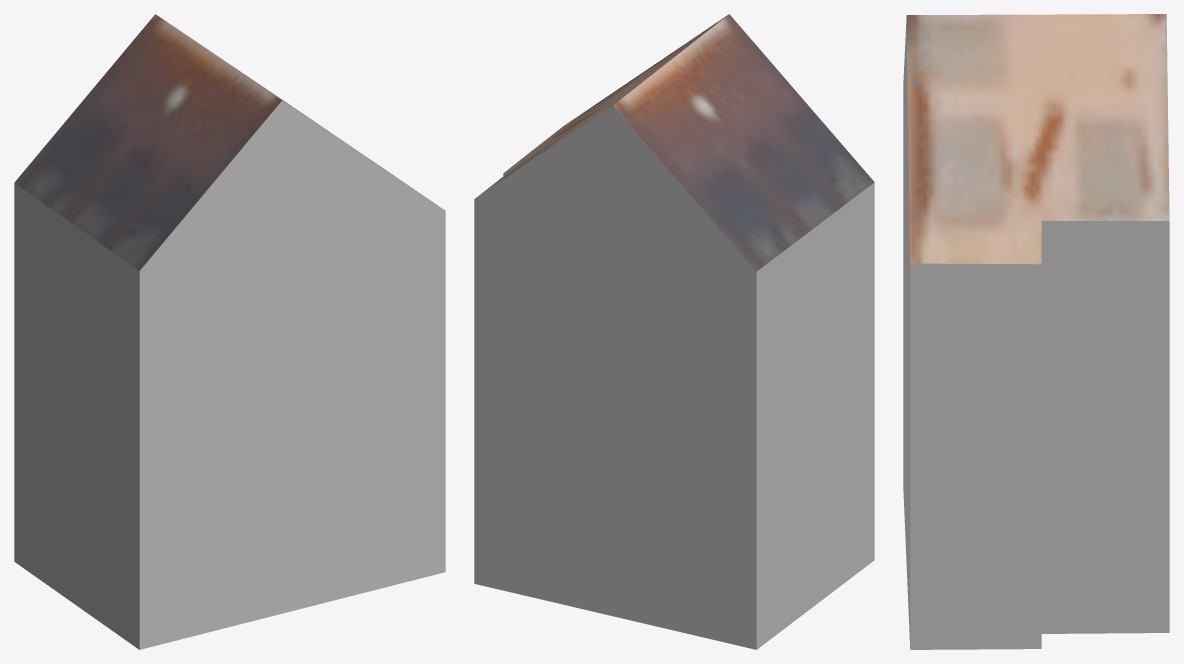
The model's file is DEBW_0010007Tx8b.gltf.
3 views of the same model, side by side, from view 1: azimuth 30°, elevation 25°; view 2: azimuth 150°, elevation 25°; view 3: azimuth 270°, elevation 25° (orthographic). The views are drawn at different scales.
Parts seen in each view (by area): view 1: Z_UP; view 2: Z_UP; view 3: Z_UP.
Part boxes in pixels (<box>): Z_UP: <box>14,14,445,649</box>; Z_UP: <box>474,14,874,649</box>; Z_UP: <box>903,14,1169,649</box>.
Bounding box in the file's own units: 13.5 × 21.17 × 9.31.
Materials: 2 (1 with a texture image).
